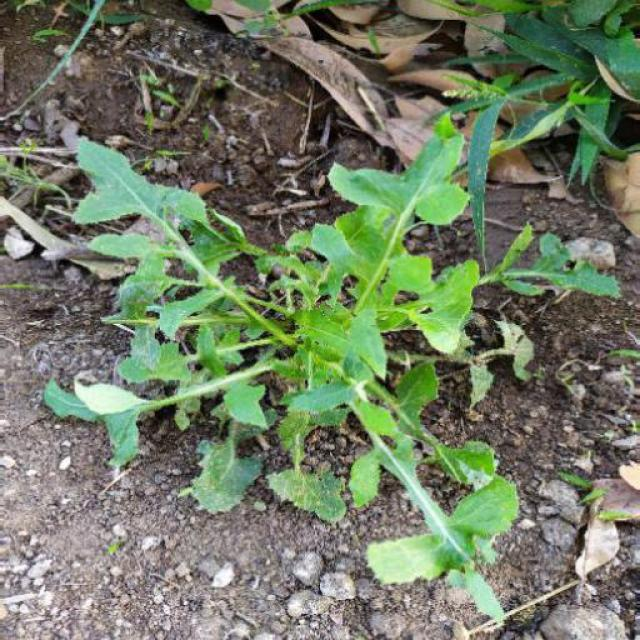weed: (45, 100, 524, 588)
